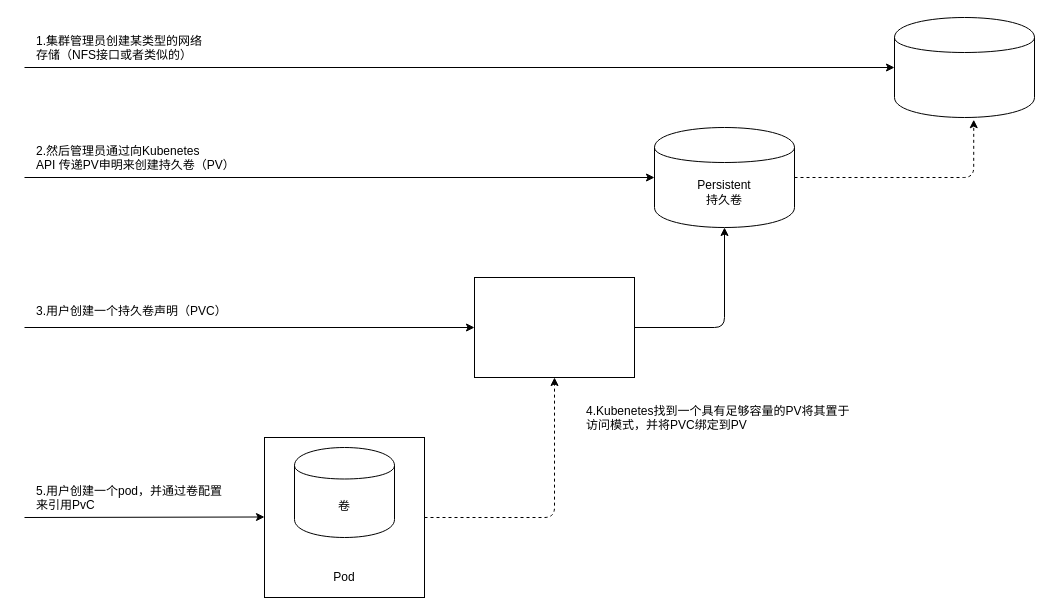
Some shapes in this 1052 by 615 pixel diagram are drawn without their labels. Each missing label, with the centre of its shape:
"NFS 输出" goes at point (964, 67).
"Persistent 持久卷声明" goes at point (554, 327).
